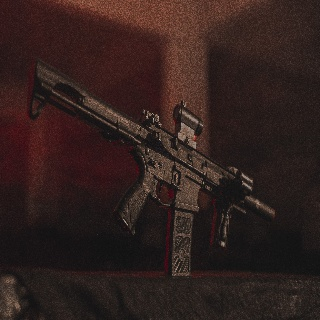rifle: (28, 57, 277, 279)
